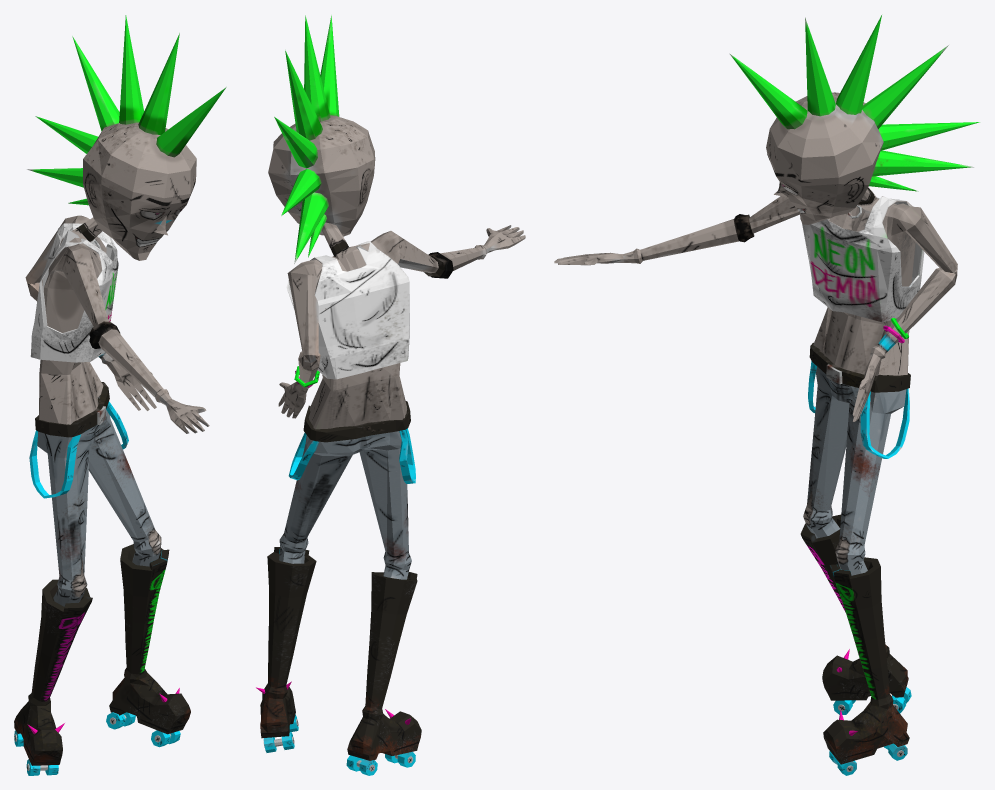
Rendered from punkAnimation_000007.obj.
The picture shows the model from 3 angles, left to right: view 1: azimuth 30°, elevation 25°; view 2: azimuth 150°, elevation 25°; view 3: azimuth 270°, elevation 25°; orthographic projection. The views are drawn at different scales.
Visible parts, largest first — view 1: Cube.004_Cube.003; view 2: Cube.004_Cube.003; view 3: Cube.004_Cube.003.
Boxes of the visible parts, x1,y1,x2,y2 form: Cube.004_Cube.003: [14, 15, 226, 775]; Cube.004_Cube.003: [256, 15, 525, 775]; Cube.004_Cube.003: [554, 15, 979, 775].
Size of the model in its own units: 1.69 by 7.4 by 3.8.
